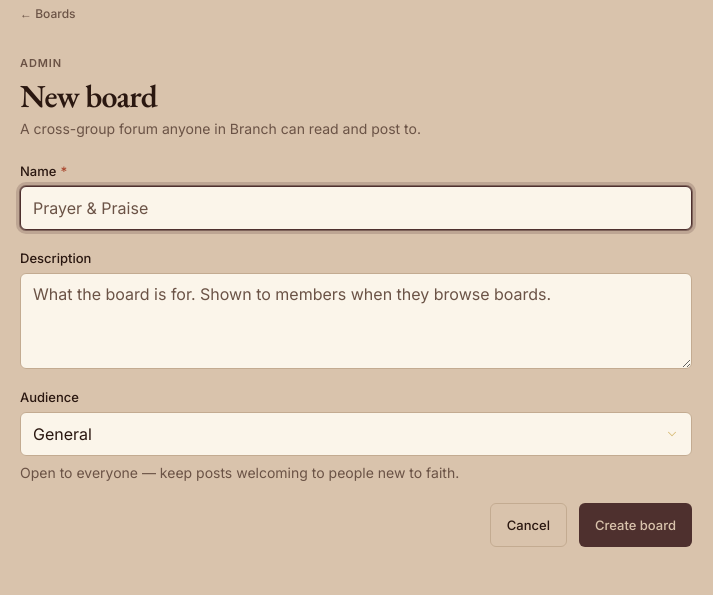
Scenario: NewBoardPage › blocks submit when name is empty and shows a validation error
Click the button "Create board": (635, 525) [579, 503, 692, 547]
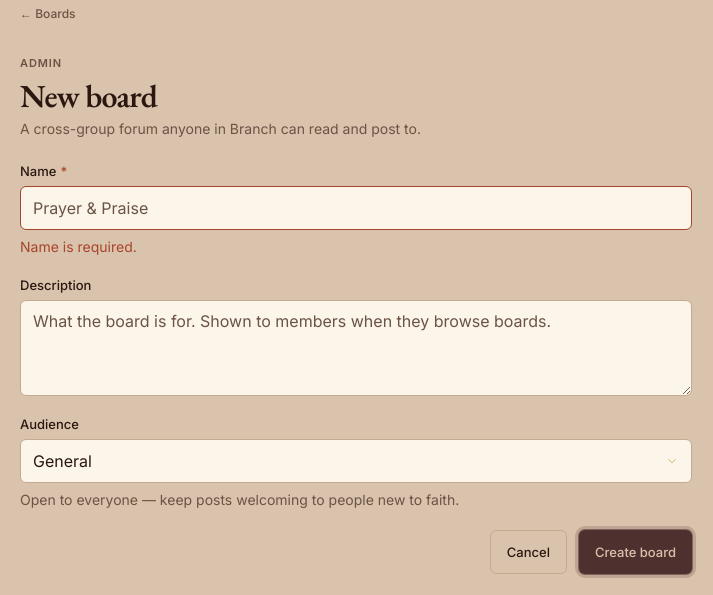
Expected: the text "Name is required." is shown, [20, 238, 137, 255]
